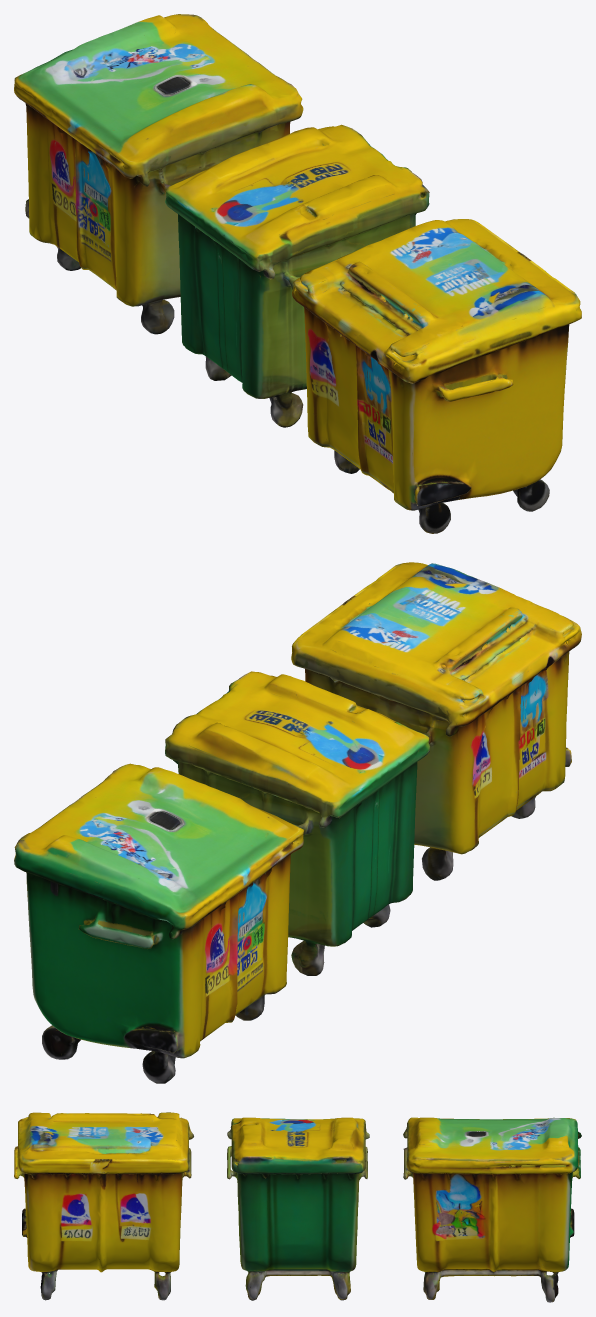
File: selectiva-1100l.glb
3 renders of one model, top to bottom at view 1: azimuth 30°, elevation 25°; view 2: azimuth 150°, elevation 25°; view 3: azimuth 270°, elevation 25°, orthographic. The views are drawn at different scales.
Bounding box in the file's own units: 0.5175 × 0.6191 × 2.01.
1 material, 1 textured.
